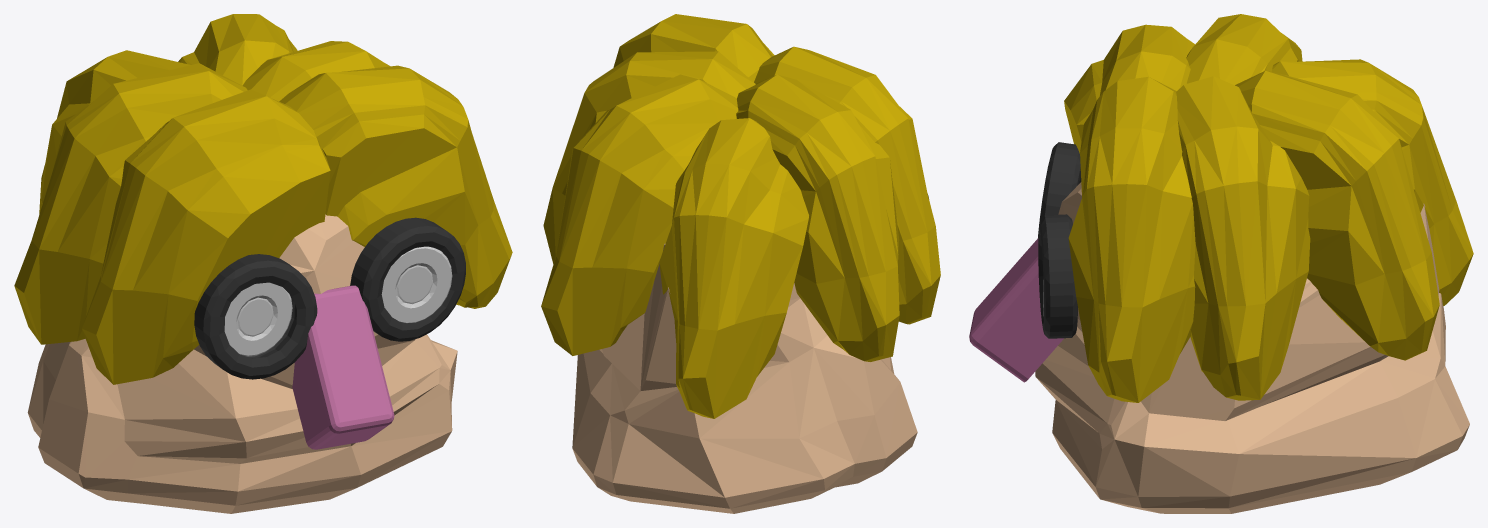
Rendered from DonConHead.fbx.
The picture shows the model from 3 angles, left to right: view 1: azimuth 30°, elevation 25°; view 2: azimuth 150°, elevation 25°; view 3: azimuth 270°, elevation 25°; orthographic projection. The views are drawn at different scales.
Parts seen in each view (by area): view 1: Hair, Head, BlacksOfEyes, Nose1, WhitesOfEyes; view 2: Hair, Head; view 3: Hair, Head, Nose1, BlacksOfEyes.
Boxes of the visible parts, x1,y1,x2,y2 form: Hair: (14,14,512,384); Head: (27,214,457,513); BlacksOfEyes: (194,217,465,379); Nose1: (292,285,394,449); WhitesOfEyes: (224,246,452,356); Hair: (541,14,940,418); Head: (572,243,917,513); Hair: (1064,14,1473,402); Head: (1035,182,1469,513); Nose1: (969,238,1063,382); BlacksOfEyes: (1038,142,1081,338).
Bounding box in the file's own units: 18.11 × 17.04 × 19.48.
